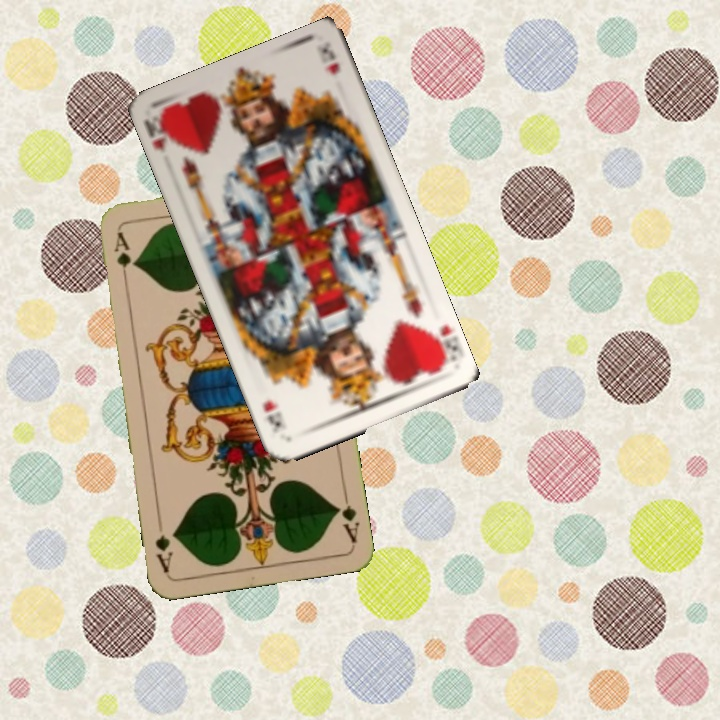GA: (331, 487, 362, 546), (110, 228, 133, 287)
HK: (140, 110, 180, 156), (425, 320, 461, 369)
